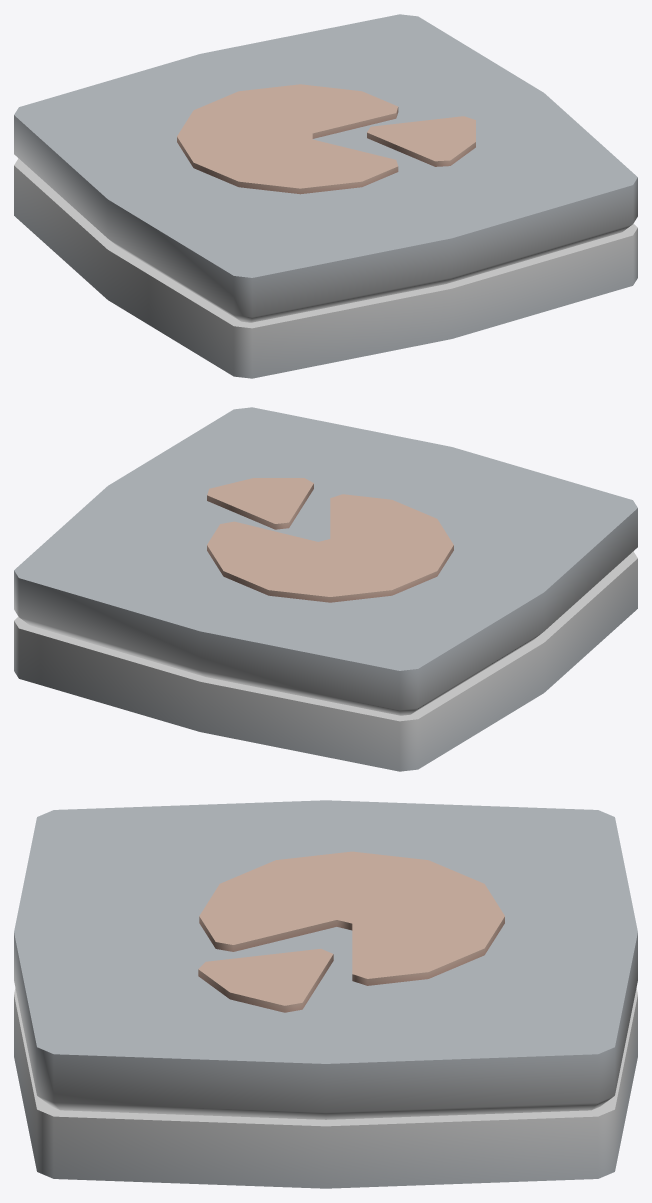
File: pizza-box-closed.glb
The picture shows the model from 3 angles, top to bottom: view 1: azimuth 30°, elevation 25°; view 2: azimuth 150°, elevation 25°; view 3: azimuth 270°, elevation 25°; orthographic projection. The views are drawn at different scales.
Parts seen in each view (by area): view 1: pizza-box-closed; view 2: pizza-box-closed; view 3: pizza-box-closed.
Part boxes in pixels (x1,y1,x2,y2): pizza-box-closed: (14, 14, 637, 378); pizza-box-closed: (14, 407, 637, 771); pizza-box-closed: (14, 800, 637, 1188).
Bounding box in the file's own units: 0.653 × 0.152 × 0.653.
